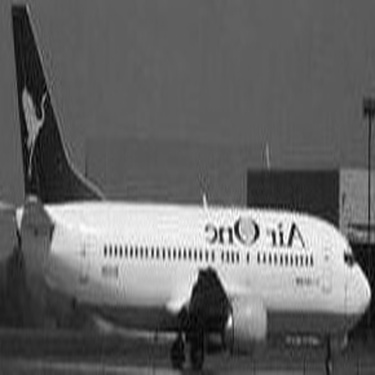airplane: (7, 2, 369, 371)
